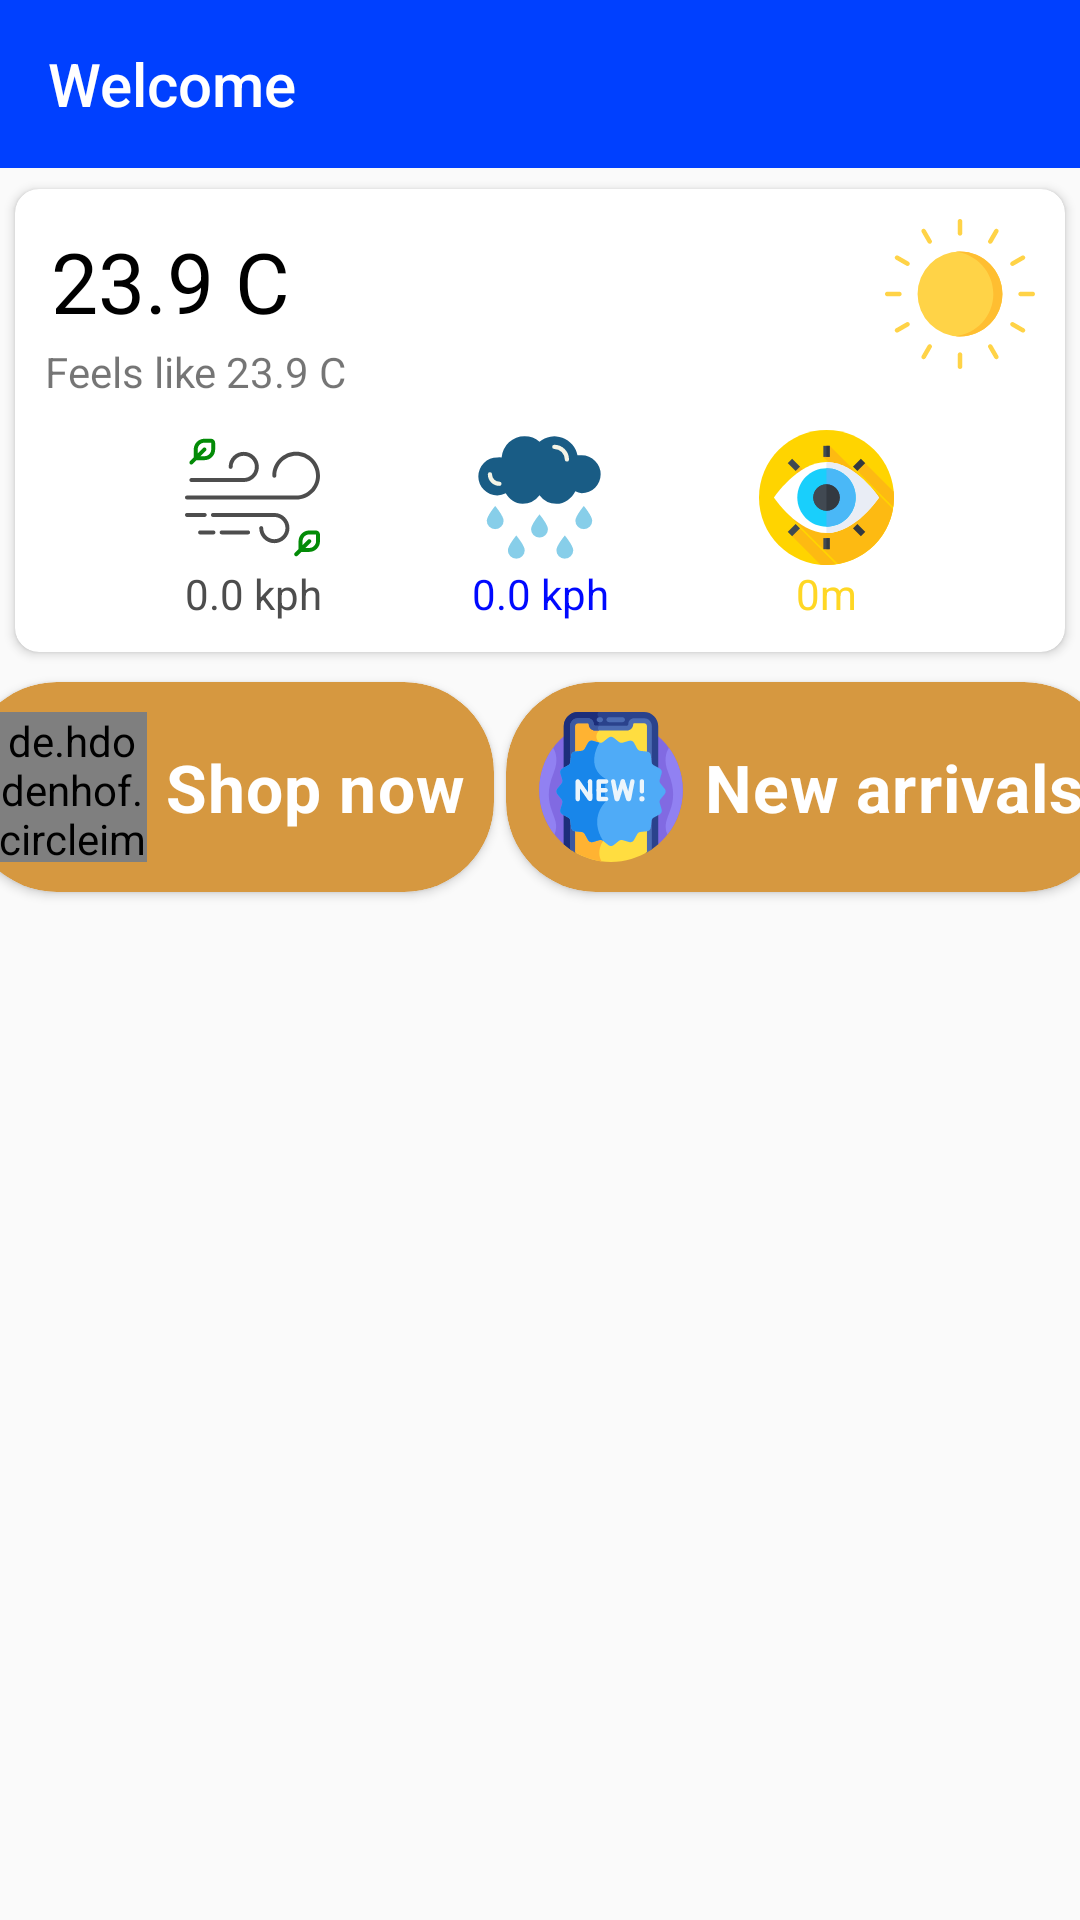

Icon bounding boxes for this 1080*1920 phone screenshot, format (x1, y1, x2, y2):
rainy: (478, 436, 601, 559)
sun: (885, 219, 1035, 369)
visibility: (759, 430, 894, 565)
wind: (185, 438, 320, 557)
